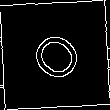O_SE: (22, 22, 88, 88)
